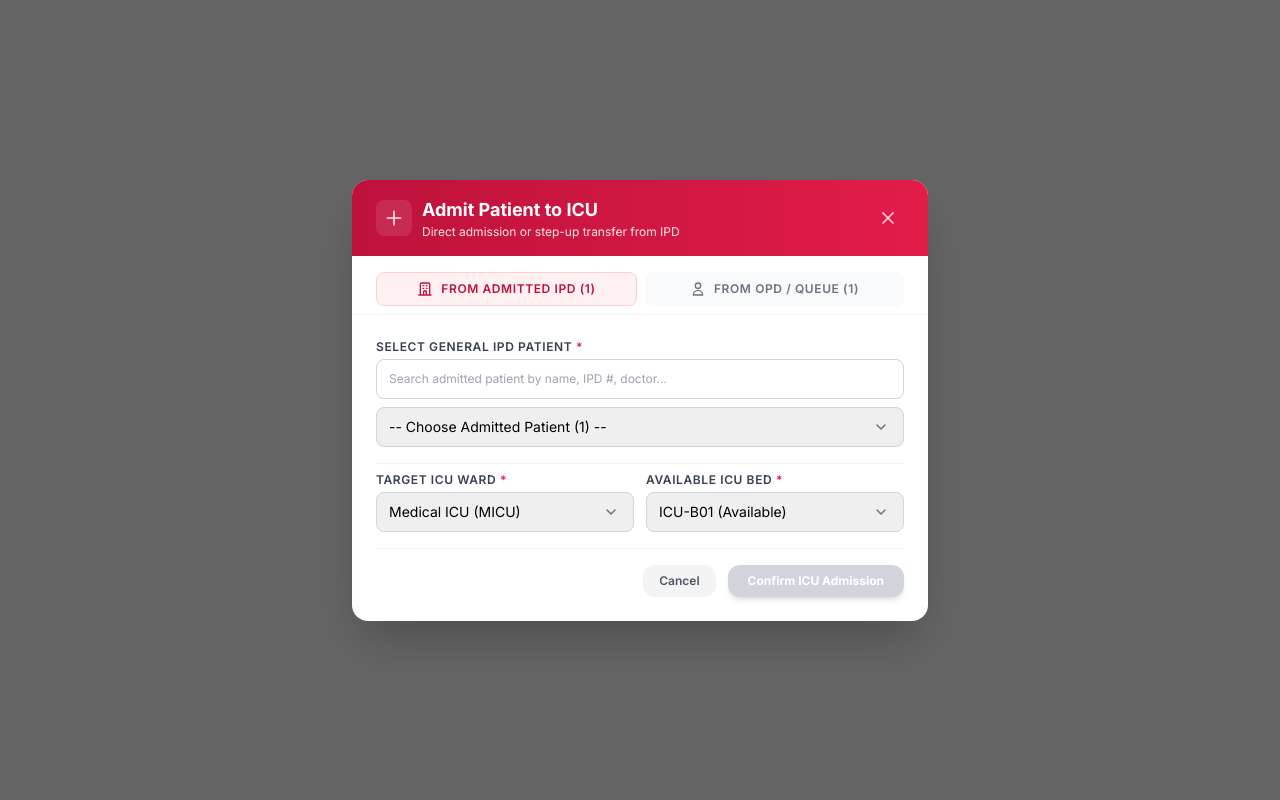
IcuAdmitModal › allows switching to OPD direct admission mode
Click the button "From OPD / Queue (1)". click: point(774, 288)
box: [645,272,904,306]
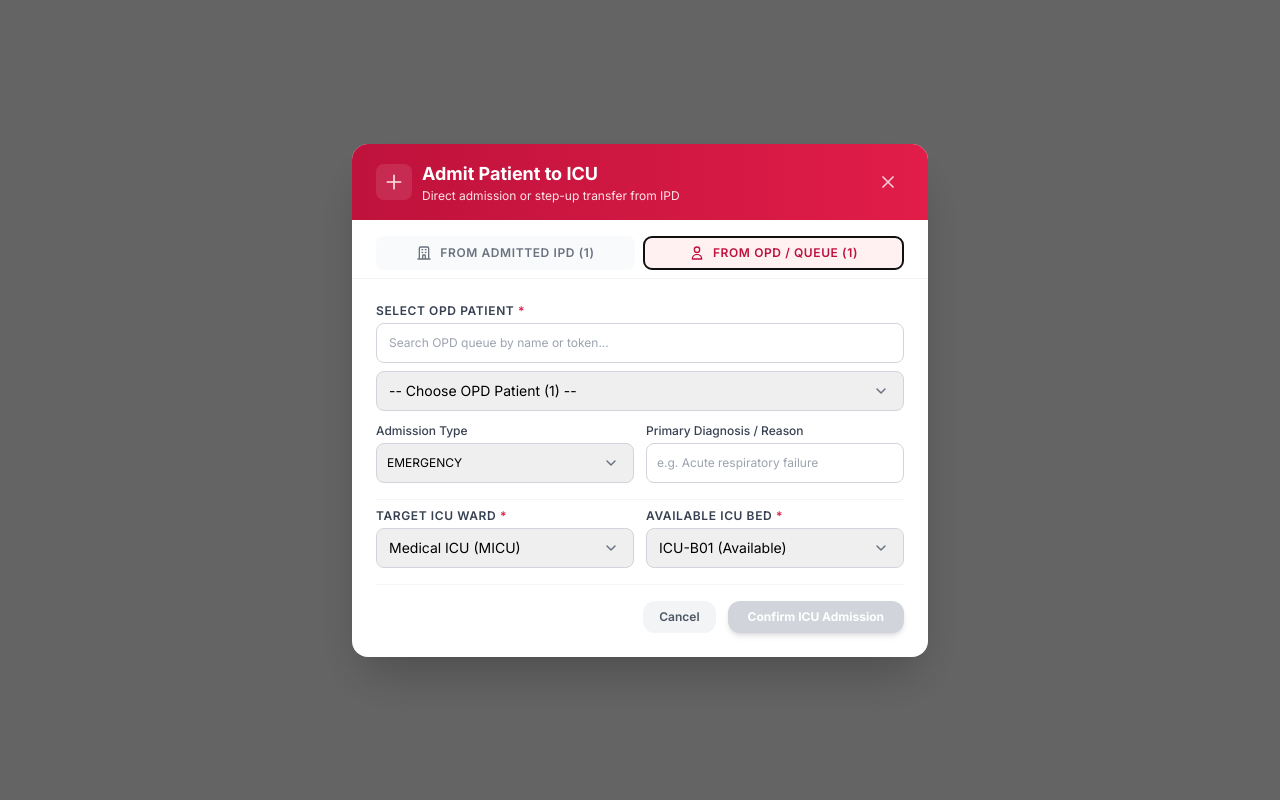
Expected: the text "Admission Type" is shown, [376,422,468,438]
